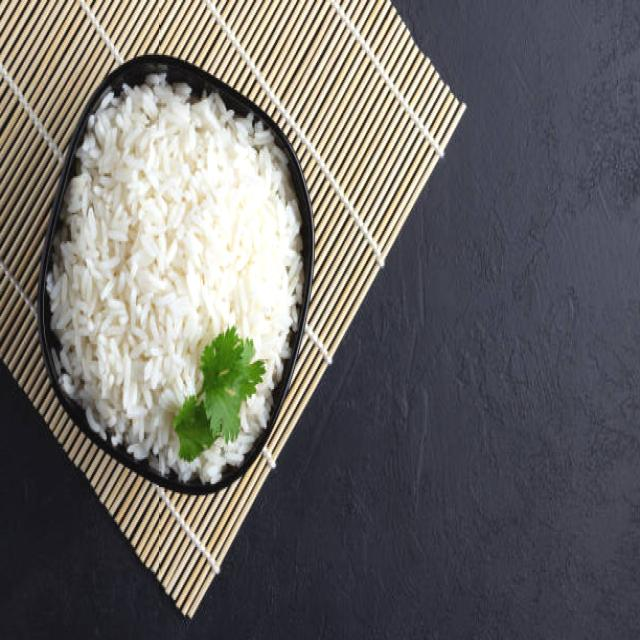Rice: (46, 70, 303, 484)
